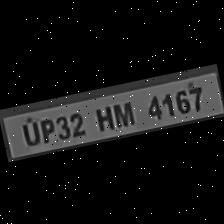1: (158, 88, 176, 116)
2: (64, 106, 88, 137)
3: (51, 111, 71, 141)
4: (139, 90, 166, 122)
6: (168, 86, 190, 114)
7: (186, 81, 207, 111)
H: (89, 100, 116, 132)
M: (109, 96, 135, 128)
P: (34, 114, 56, 143)
U: (16, 117, 40, 147)
